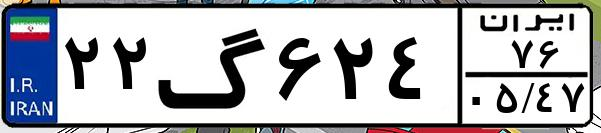0: (470, 70, 495, 125)
2: (330, 28, 385, 110), (57, 26, 110, 100), (110, 28, 156, 98)
4: (385, 28, 445, 110), (535, 70, 560, 125)
5: (495, 70, 520, 125)
6: (270, 28, 330, 110), (537, 27, 568, 80)
7: (560, 70, 590, 125), (508, 27, 537, 80)
گ: (156, 12, 270, 120)
